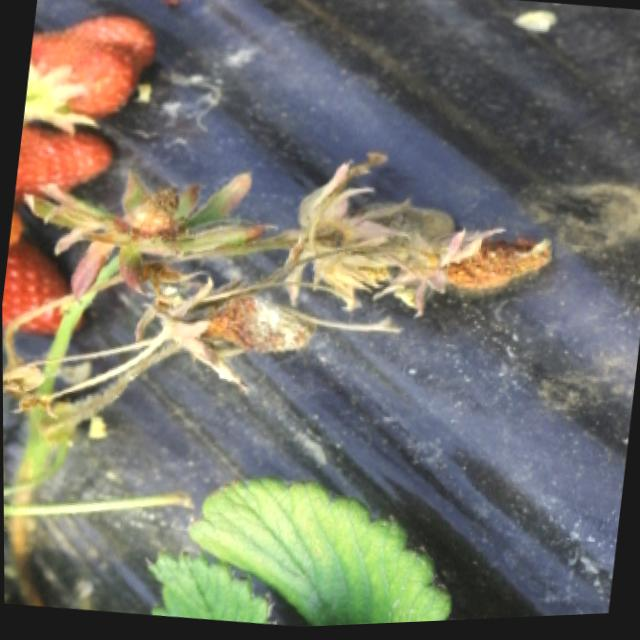Gray Mold: (284, 153, 459, 310), (151, 272, 319, 389)
